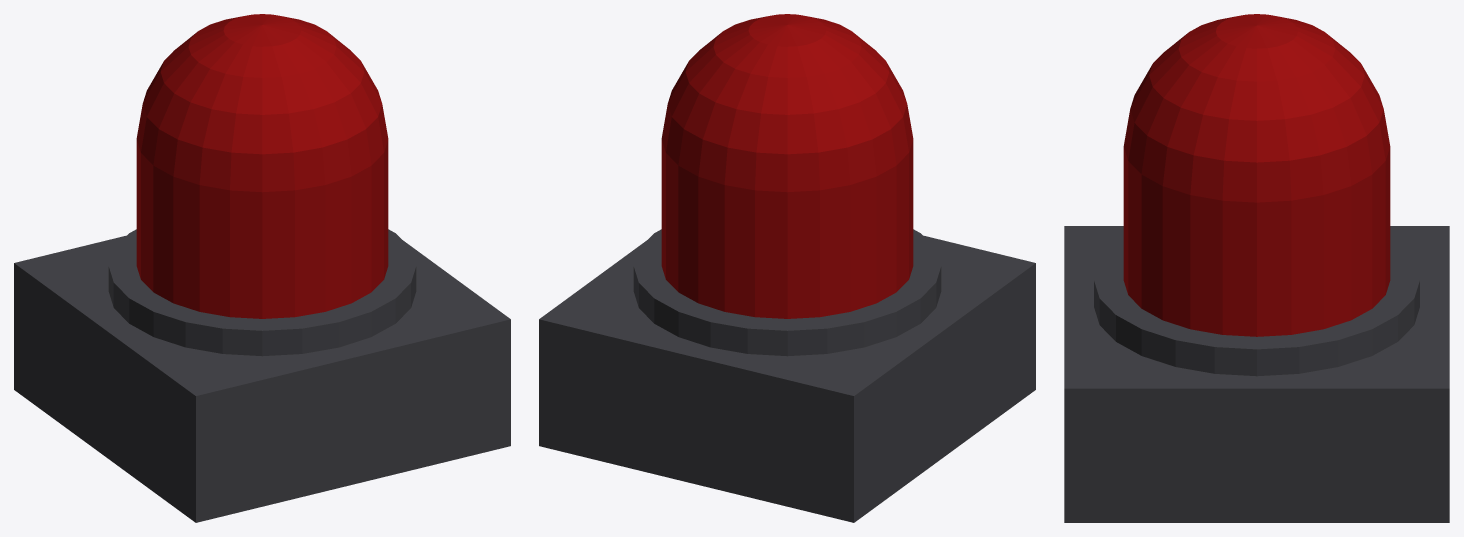
File: goal-light.obj
3 renders of one model, left to right at view 1: azimuth 30°, elevation 25°; view 2: azimuth 150°, elevation 25°; view 3: azimuth 270°, elevation 25°, orthographic. The views are drawn at different scales.
Parts seen in each view (by area): view 1: Housing, Dome; view 2: Housing, Dome; view 3: Housing, Dome.
Part boxes in pixels (left/top/right/bottom): Housing: left=14, top=229, right=510, bottom=522; Dome: left=136, top=14, right=388, bottom=318; Housing: left=539, top=229, right=1035, bottom=522; Dome: left=661, top=14, right=913, bottom=318; Housing: left=1064, top=226, right=1449, bottom=522; Dome: left=1123, top=14, right=1390, bottom=336.
Bounding box in the file's own units: 0.26 × 0.31 × 0.26.
